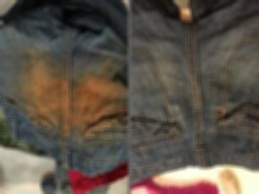earth: (25, 50, 64, 124), (71, 79, 118, 122)
